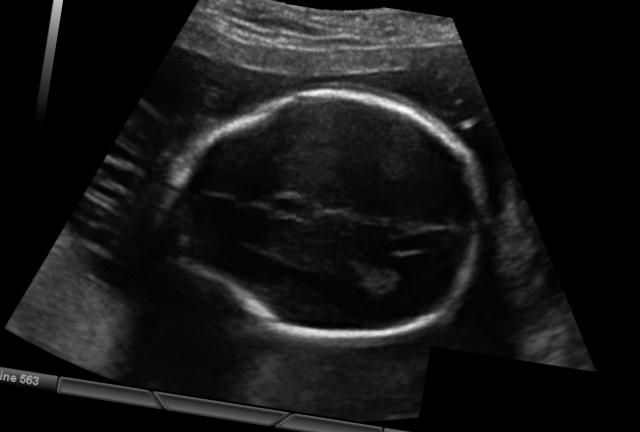CHOROID_PLEXUS: (343, 252, 412, 302)
CSP: (232, 180, 300, 234)
MIDLINE_FALX: (193, 167, 472, 270)
